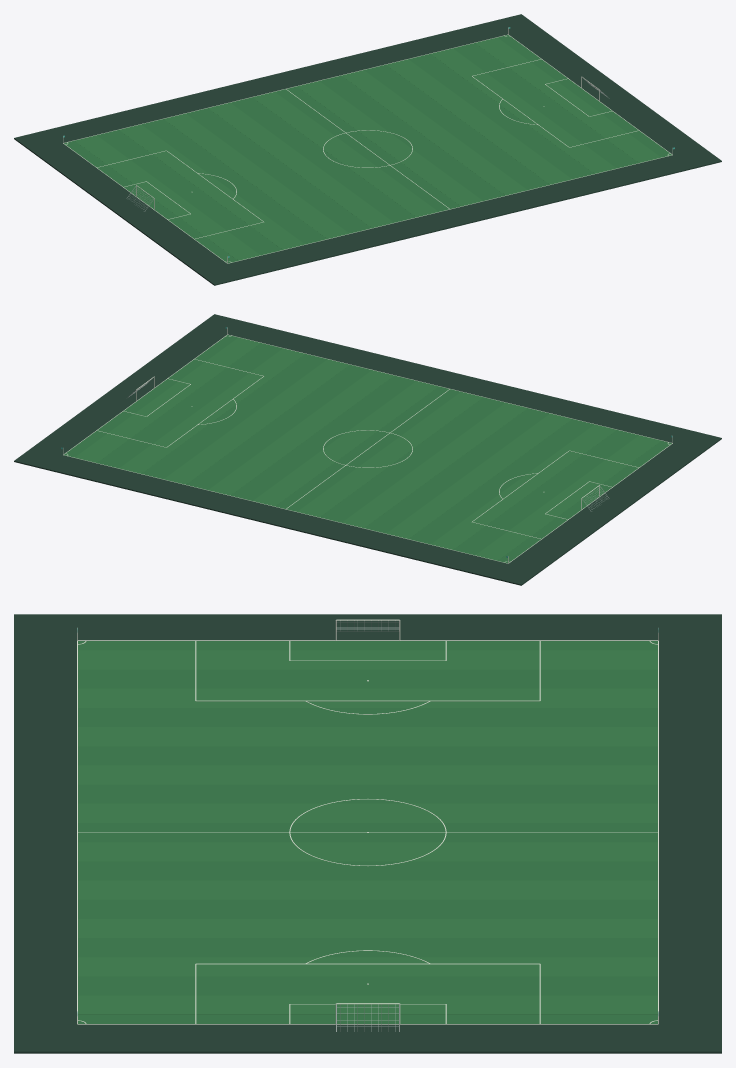
The model's file is field.glb.
The picture shows the model from 3 angles, top to bottom: view 1: azimuth 30°, elevation 25°; view 2: azimuth 150°, elevation 25°; view 3: azimuth 270°, elevation 25°; orthographic projection. The views are drawn at different scales.
Visible parts, largest first — view 1: CuttingStripe, PlayingSurface, Runoff, Paint; view 2: CuttingStripe, PlayingSurface, Runoff, Paint; view 3: CuttingStripe, PlayingSurface, Runoff, Paint, GoalSupport.
Boxes of the visible parts, x1,y1,x2,y2 form: CuttingStripe: (75,37,660,260); PlayingSurface: (64,35,671,263); Runoff: (14,14,721,285); Paint: (63,27,672,263); CuttingStripe: (75,337,660,560); PlayingSurface: (64,335,671,563); Runoff: (14,314,721,585); Paint: (63,327,672,563); CuttingStripe: (78,650,657,1014); PlayingSurface: (78,641,657,1023); Runoff: (14,614,721,1053); Paint: (77,619,658,1024); GoalSupport: (336,620,399,1031).
Bounding box in the file's own units: 114 × 2.85 × 78.
